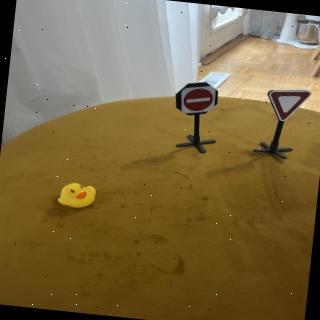duck_regular: (55, 180, 99, 211)
sign_noentry: (178, 81, 219, 118)
sign_yield: (266, 85, 314, 125)
